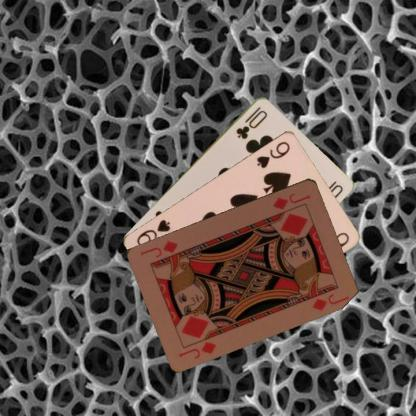10c: (233, 104, 268, 140)
9s: (254, 138, 291, 169)
Jd: (270, 189, 312, 211), (175, 338, 217, 360)
